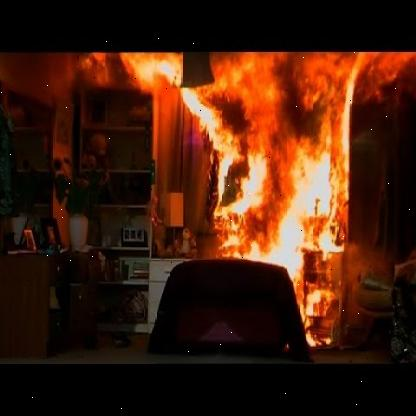fire: (133, 55, 361, 345)
